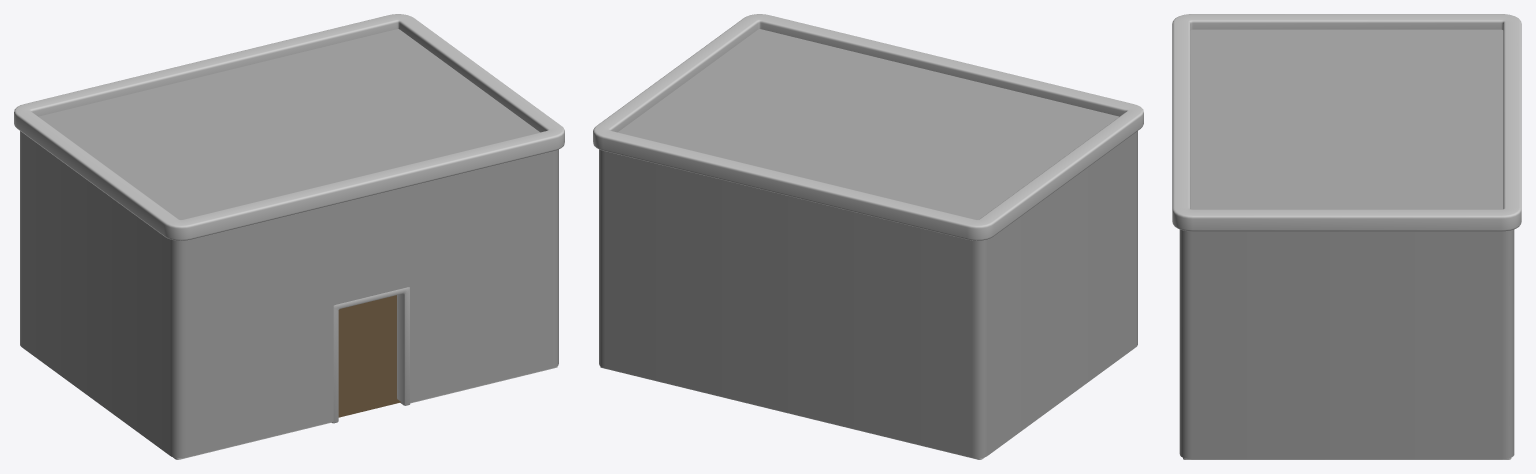
File: SM_room_01.fbx
3 views of the same model, side by side, from view 1: azimuth 30°, elevation 25°; view 2: azimuth 150°, elevation 25°; view 3: azimuth 270°, elevation 25° (orthographic). The views are drawn at different scales.
Visible parts, largest first — view 1: Object049; view 2: Object049; view 3: Object049.
Boxes of the visible parts, x1,y1,x2,y2 form: Object049: (14, 14, 564, 459); Object049: (593, 14, 1143, 459); Object049: (1172, 14, 1521, 459).
Size of the model in its own units: 295 by 168 by 214.
